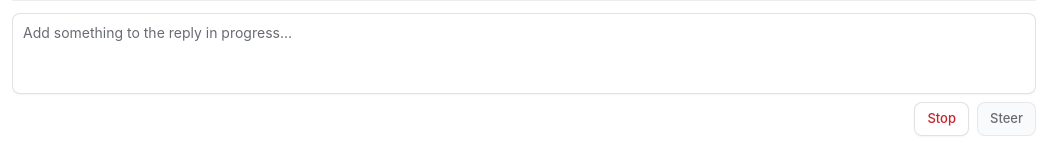
Composer › switches to Steer and Stop while the Foreman replies; Steer posts to the run and clears the draft
The image size is (1048, 160).
(page scrolled)
Expected: the button "Steer" is disabled, top-left (977, 102), bottom-right (1036, 136)
Type "Use the small table." into the text box labelled "Add something to the reply in progress…" at [524, 54], box top-left (12, 13), bottom-right (1036, 94)
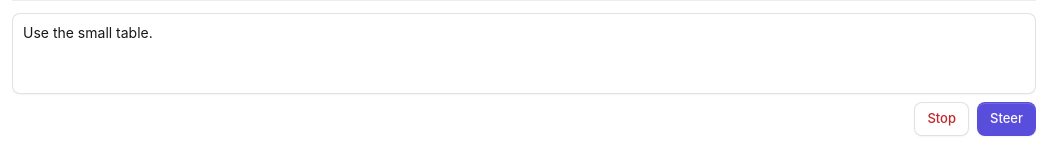
Press Enter in the text box named "The Foreman is replying. What you write here joins that repl", box top-left (12, 13), bottom-right (1036, 94)
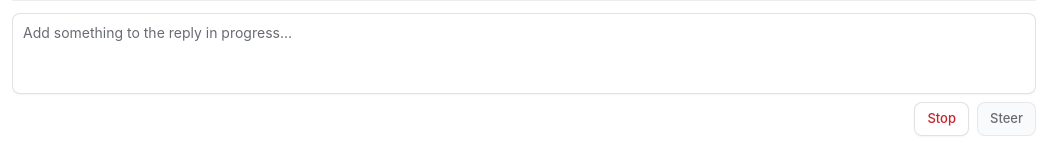
Expected: the text box labelled "Add something to the reply in progress…" is empty, top-left (12, 13), bottom-right (1036, 94)
